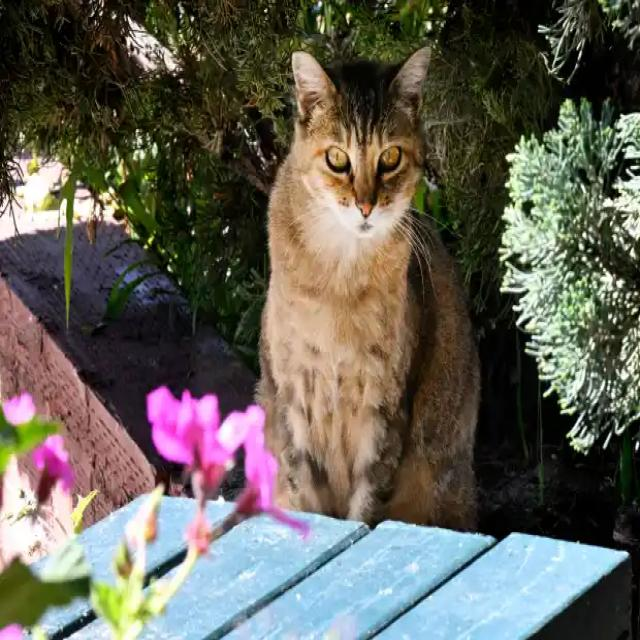cat: (258, 50, 480, 528)
